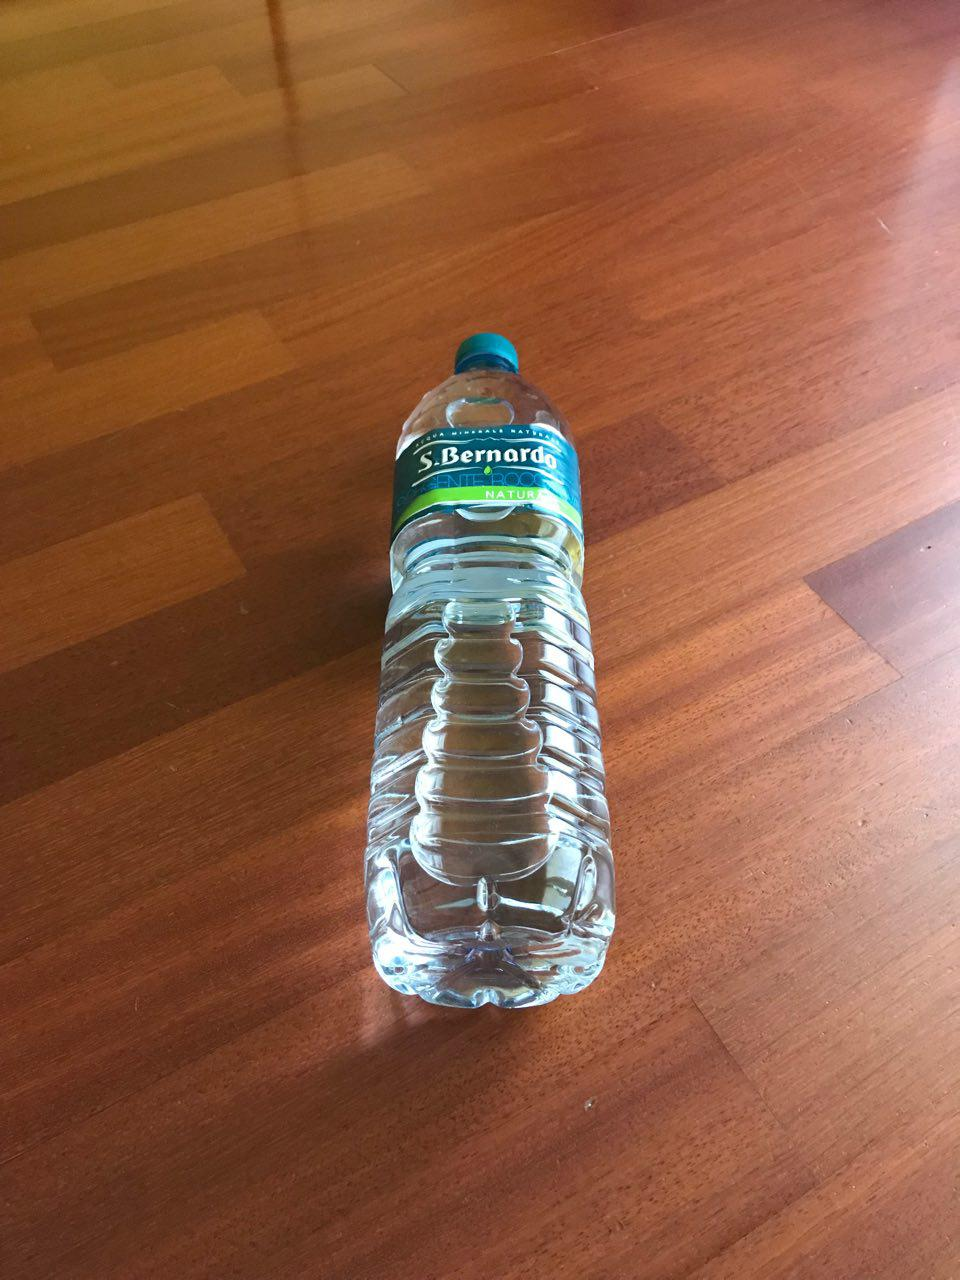san_bernardo: (360, 329, 619, 1011)
